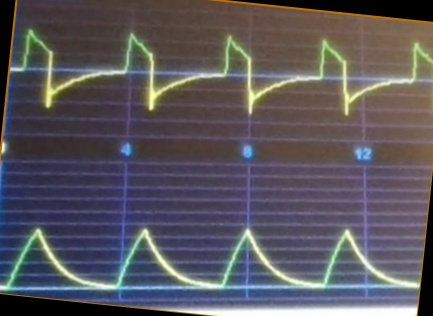Normal Flow: (14, 22, 433, 124)
Normal Volume: (2, 207, 418, 294)
